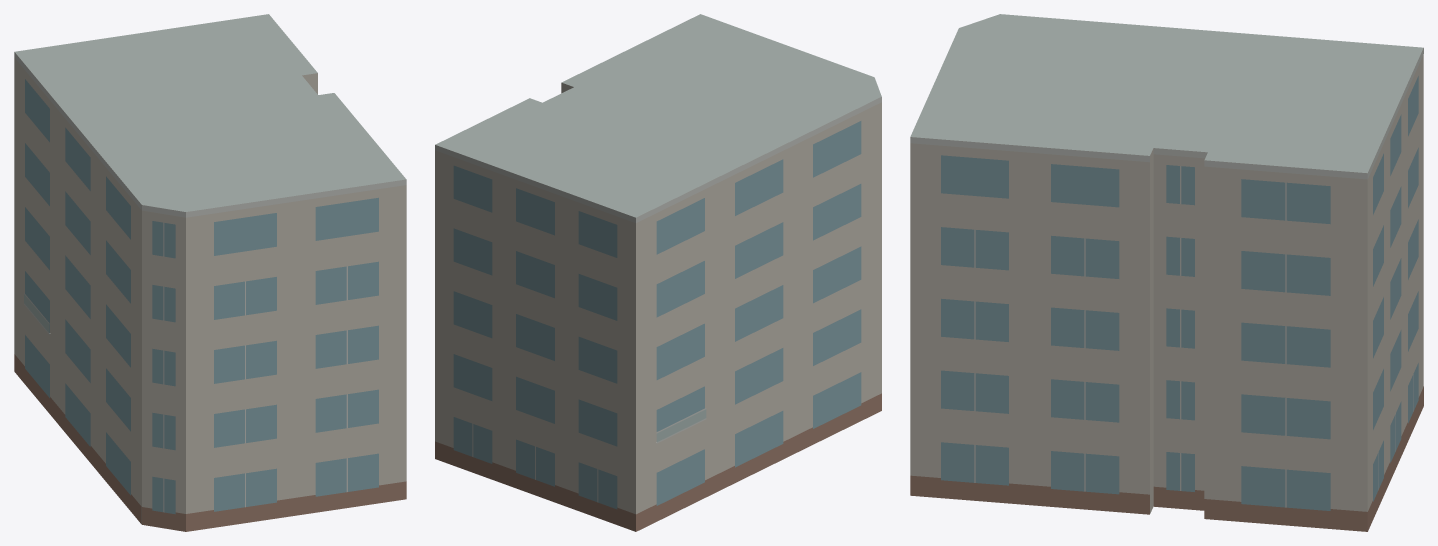
Rendered from survey-upis-32536994.glb.
3 renders of one model, left to right at view 1: azimuth 30°, elevation 25°; view 2: azimuth 150°, elevation 25°; view 3: azimuth 270°, elevation 25°, orthographic. The views are drawn at different scales.
Parts seen in each view (by area): view 1: survey-upis-32536994.tmp; view 2: survey-upis-32536994.tmp; view 3: survey-upis-32536994.tmp.
Boxes of the visible parts, left/top/right/bottom form: survey-upis-32536994.tmp: left=14, top=14, right=406, bottom=531; survey-upis-32536994.tmp: left=435, top=14, right=881, bottom=531; survey-upis-32536994.tmp: left=910, top=14, right=1423, bottom=531.
Bounding box in the file's own units: 13.24 × 13.9 × 18.05.
